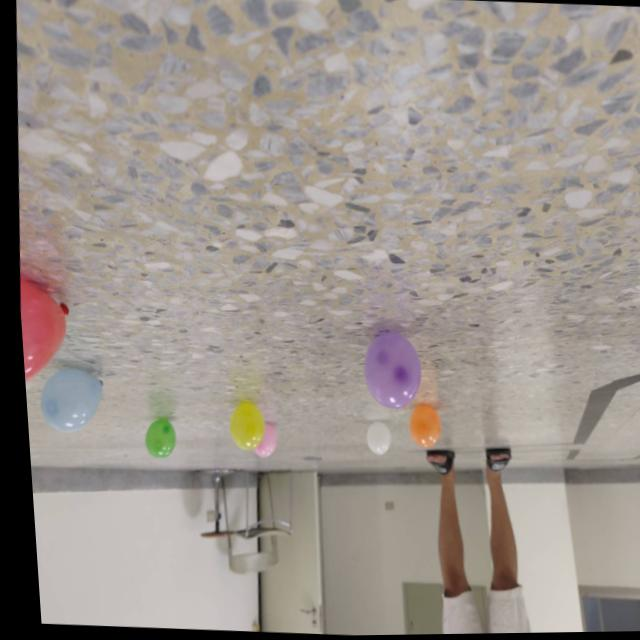other: (356, 332, 421, 413), (31, 368, 103, 436), (221, 404, 261, 454), (400, 405, 437, 452), (138, 419, 172, 461), (357, 422, 387, 458), (248, 425, 273, 459)
red: (14, 275, 70, 389)
